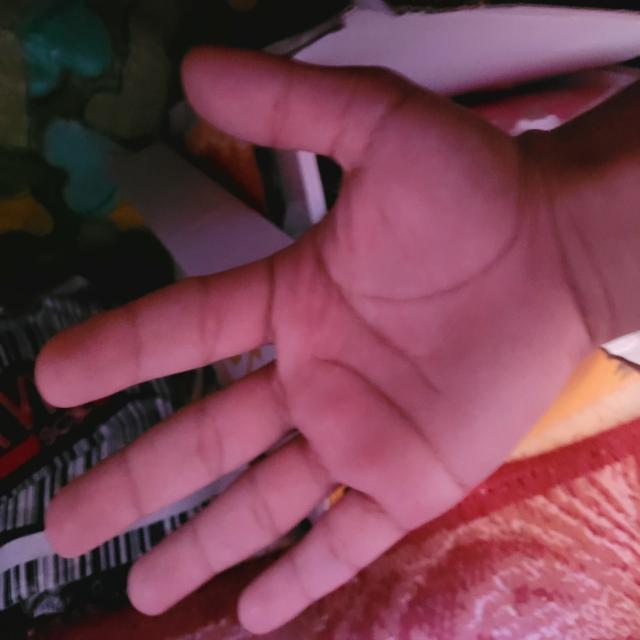Open Hand: (33, 46, 600, 634)
